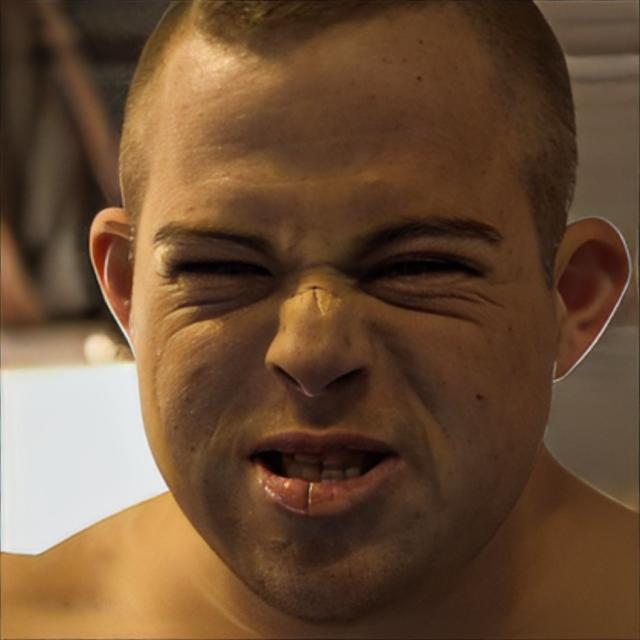disgust: (118, 0, 574, 627)
